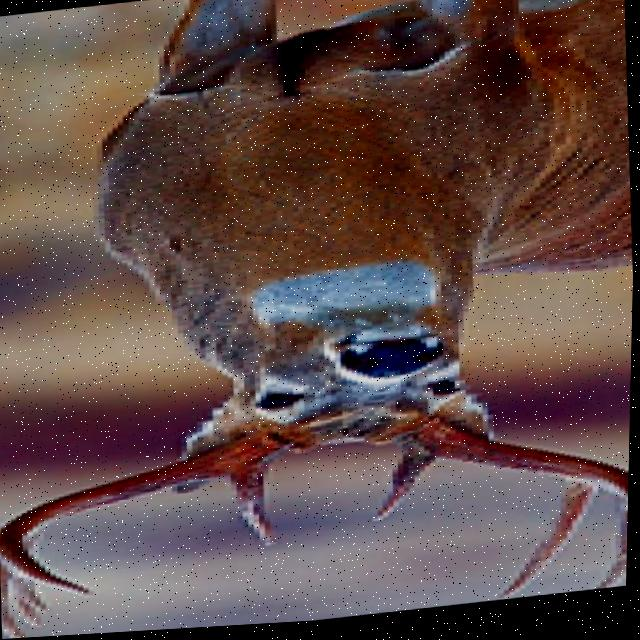L-F: (1, 432, 305, 597)
L-G1: (228, 462, 277, 550)
R-F: (389, 423, 631, 511)
R-G1: (371, 448, 447, 527)
R-G2: (501, 487, 599, 606)
